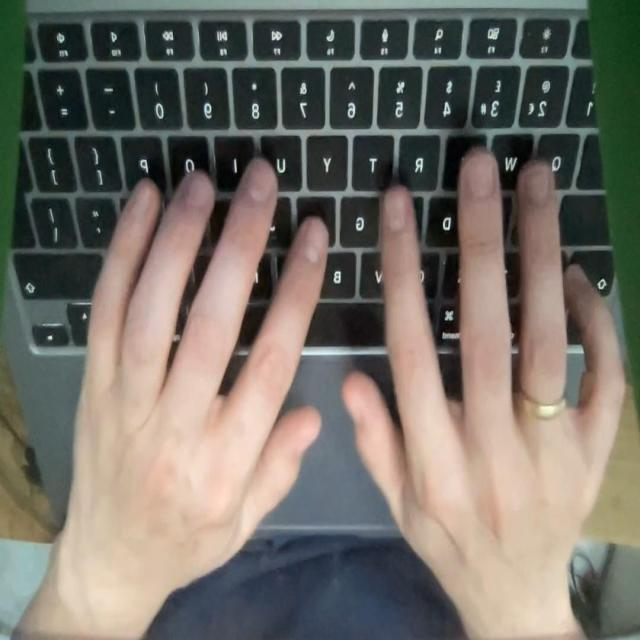keyboard-with-hands: (2, 0, 626, 537)
